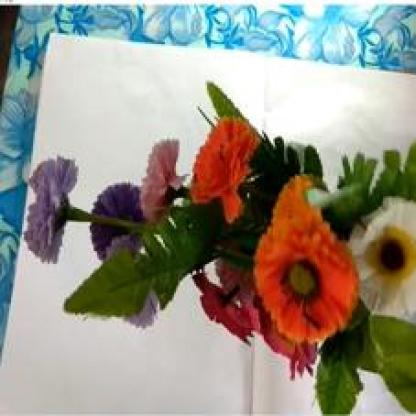flower: (29, 53, 414, 395)
